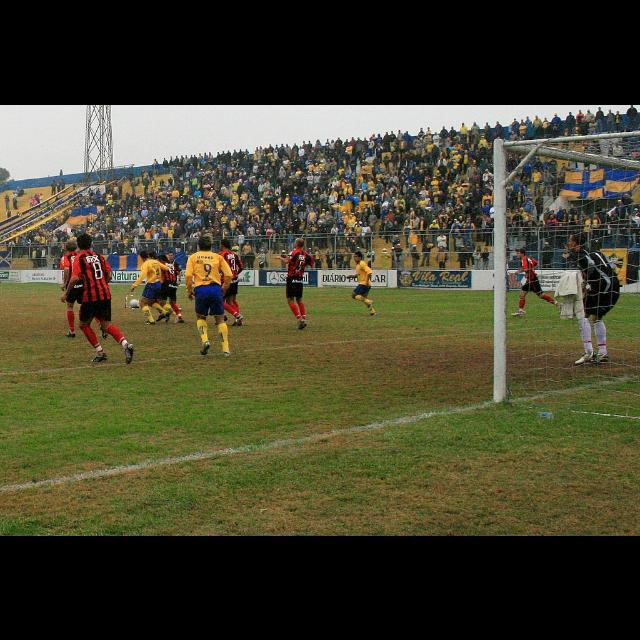Football: (125, 296, 139, 308)
